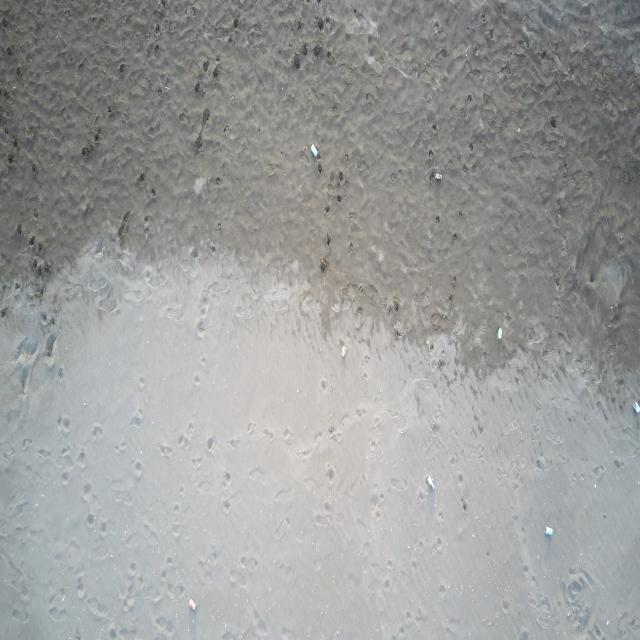tin-and-aluminum-cans: (311, 142, 320, 159), (426, 477, 436, 492), (632, 398, 640, 414), (543, 526, 553, 538), (187, 598, 196, 611), (435, 171, 442, 183), (341, 344, 346, 358), (498, 326, 503, 339)
